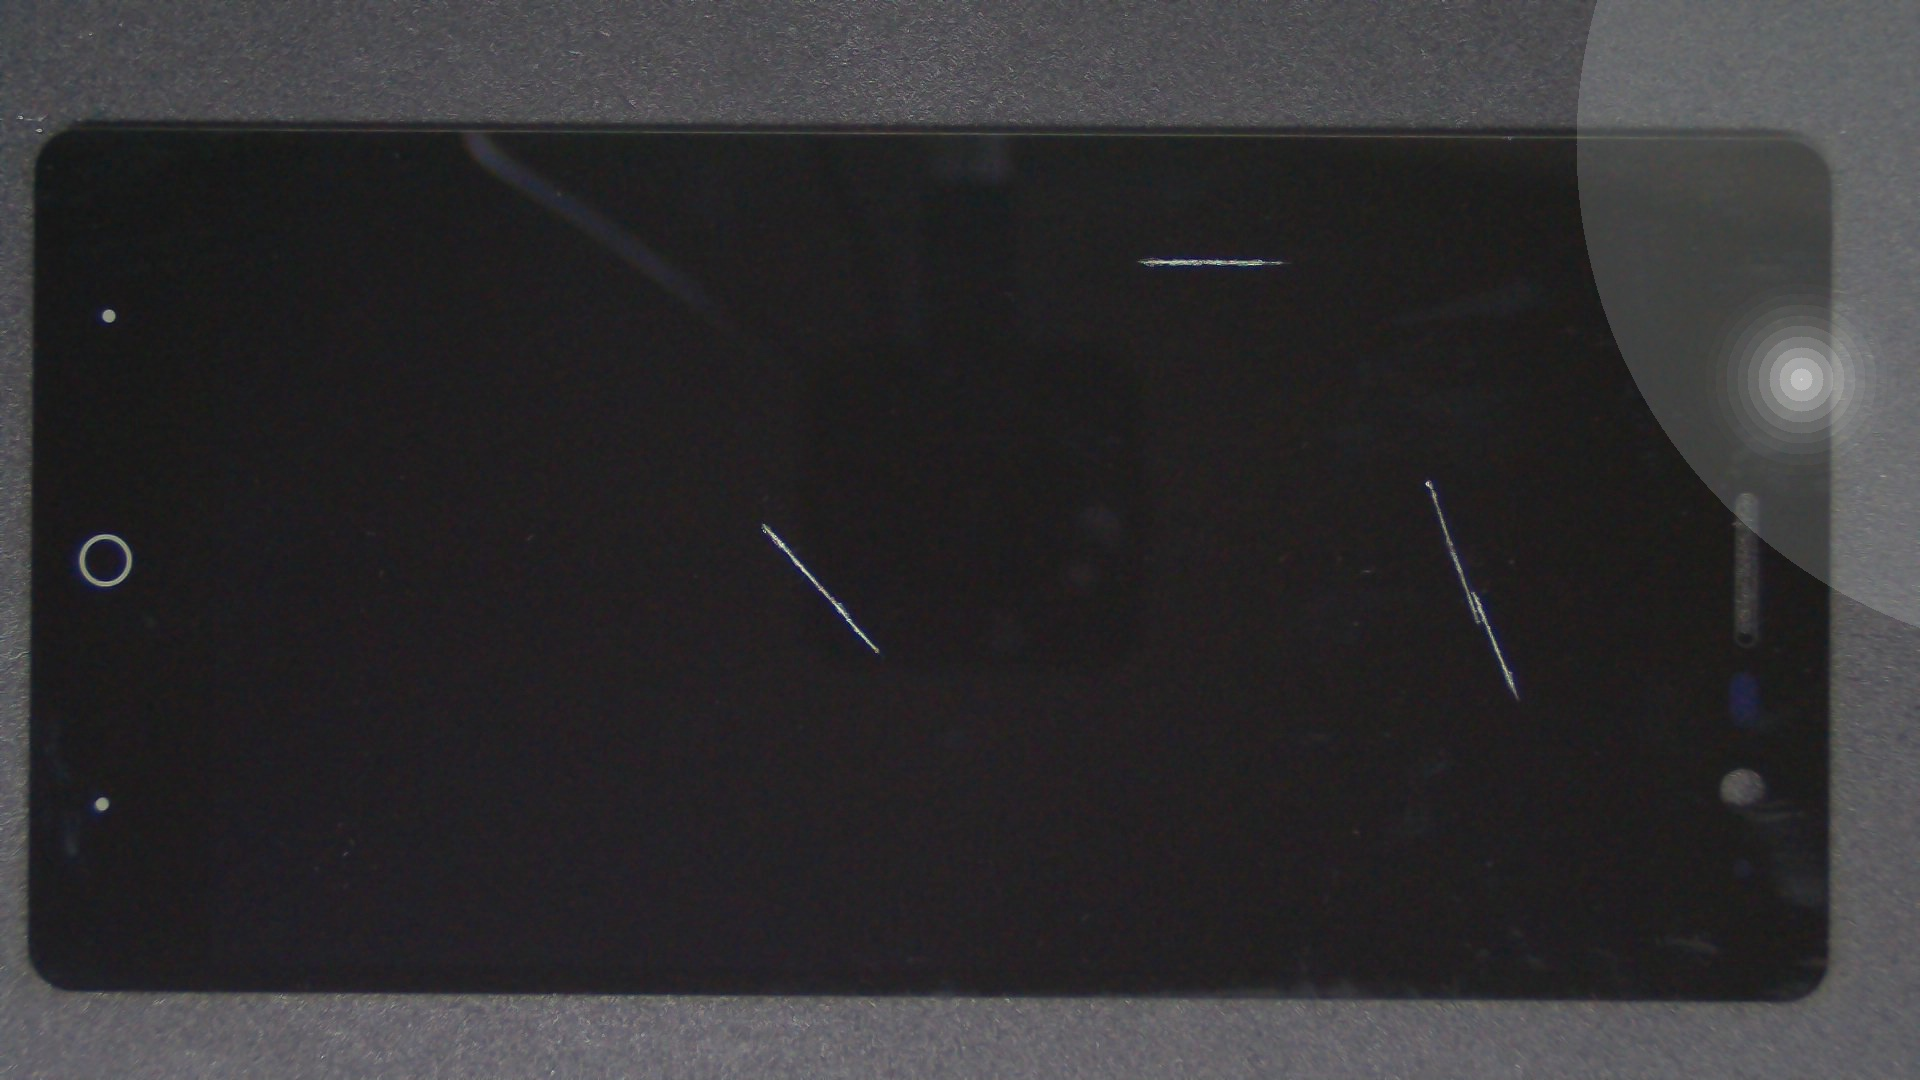oil: (713, 239, 1920, 719), (382, 261, 1145, 783), (576, 128, 1727, 386)
